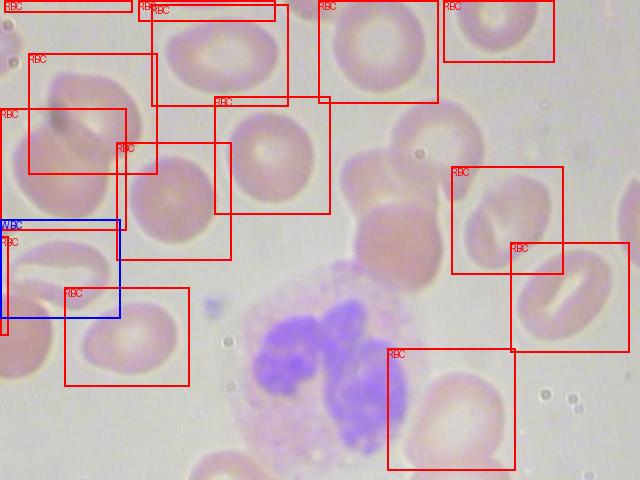RBC: (387, 348, 515, 470), (28, 53, 157, 174), (0, 108, 126, 230), (151, 4, 288, 106), (214, 96, 330, 214), (116, 142, 231, 260), (510, 242, 629, 352), (64, 287, 189, 386), (318, 0, 438, 103), (451, 166, 563, 274), (443, 0, 554, 62), (138, 0, 275, 21), (4, 0, 132, 12), (0, 236, 8, 335)
WBC: (0, 219, 120, 318)
